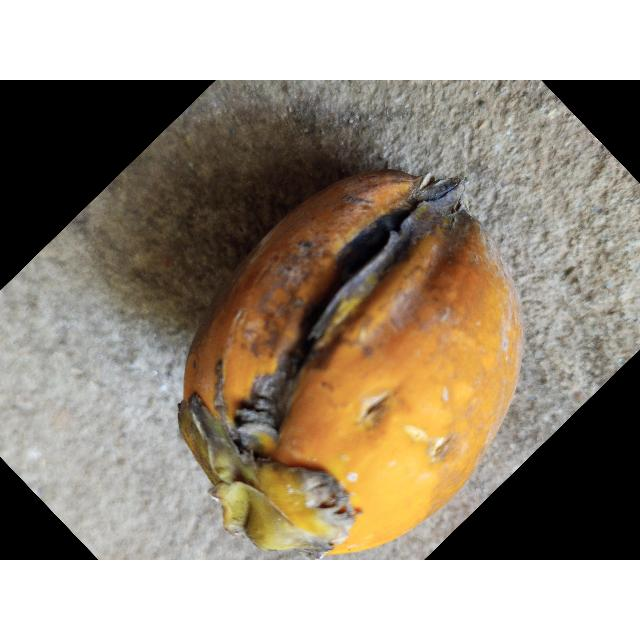damaged: (177, 172, 524, 560)
